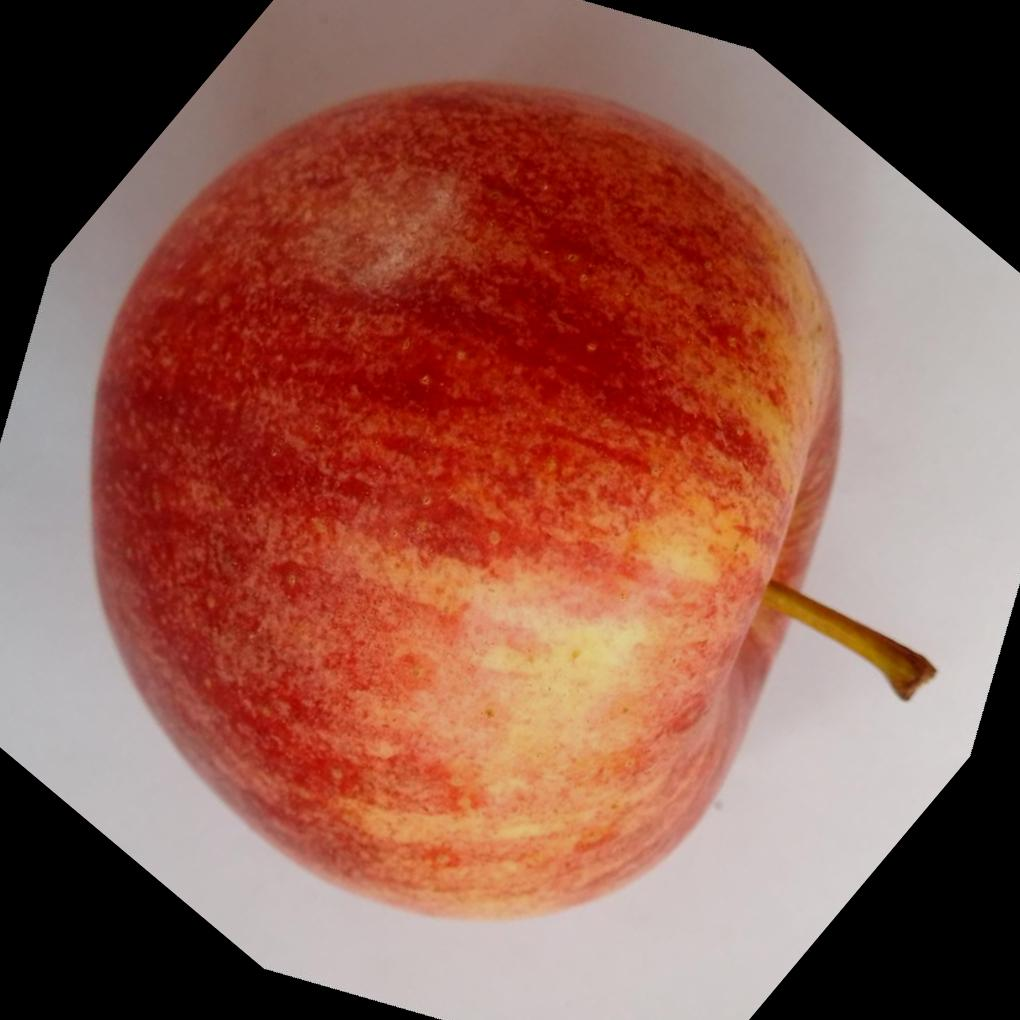FreshGuava: (88, 78, 850, 928)
